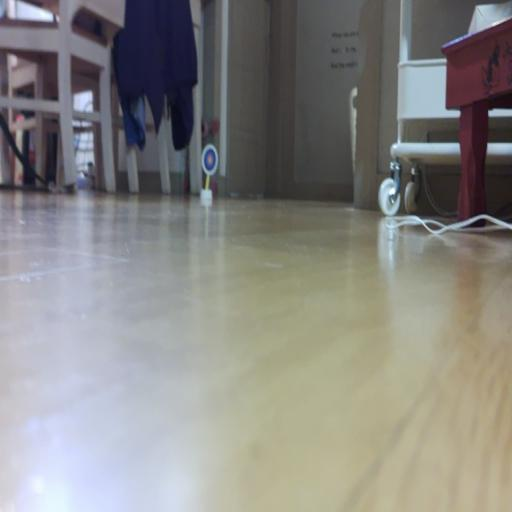target: (202, 144, 218, 176)
